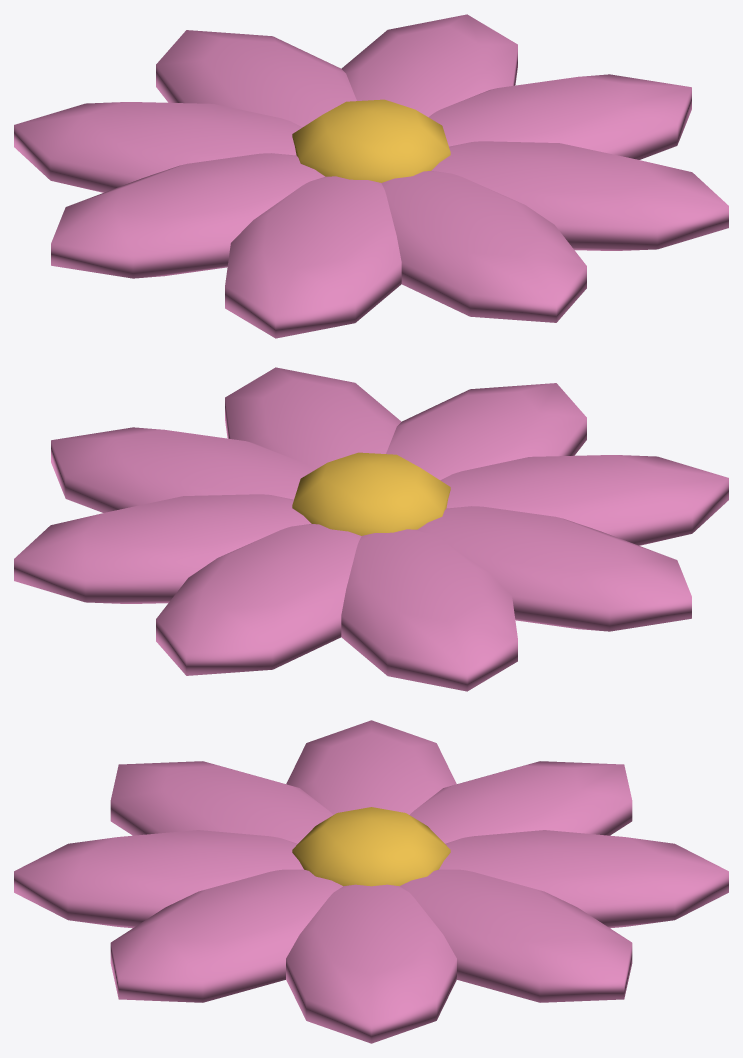
File: flower-eight.glb
The picture shows the model from 3 angles, top to bottom: view 1: azimuth 30°, elevation 25°; view 2: azimuth 150°, elevation 25°; view 3: azimuth 270°, elevation 25°; orthographic projection. The views are drawn at different scales.
Parts seen in each view (by area): view 1: tint-surface, surface; view 2: tint-surface, surface; view 3: tint-surface, surface.
Part boxes in pixels (x1,y1,x2,y2): tint-surface: (14,14,728,338); surface: (292,99,450,182); tint-surface: (14,367,728,691); surface: (292,452,450,535); tint-surface: (14,720,728,1043); surface: (292,807,450,886).
Bounding box in the file's own units: 1.03 × 0.155 × 1.03.
